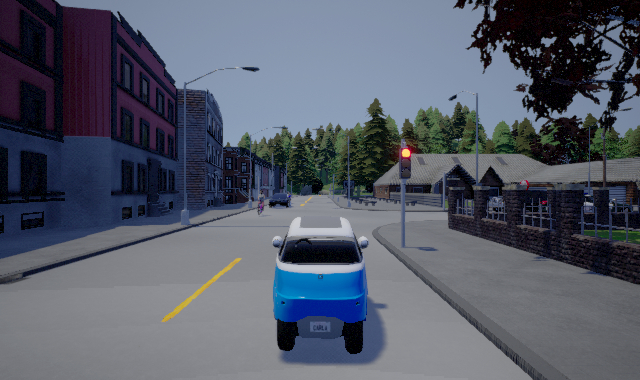bike: (255, 189, 265, 216)
traffic_light: (399, 145, 413, 178)
vehicle: (271, 216, 368, 354), (269, 193, 292, 208)
